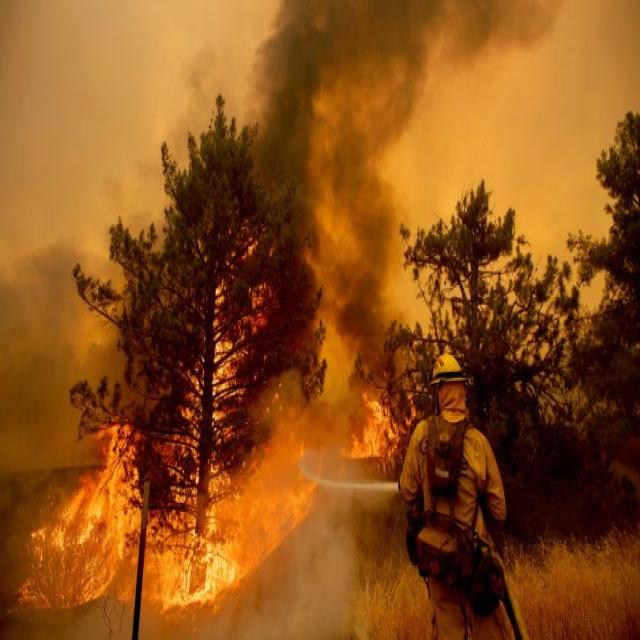fire: (45, 476, 128, 597), (156, 498, 242, 611)
